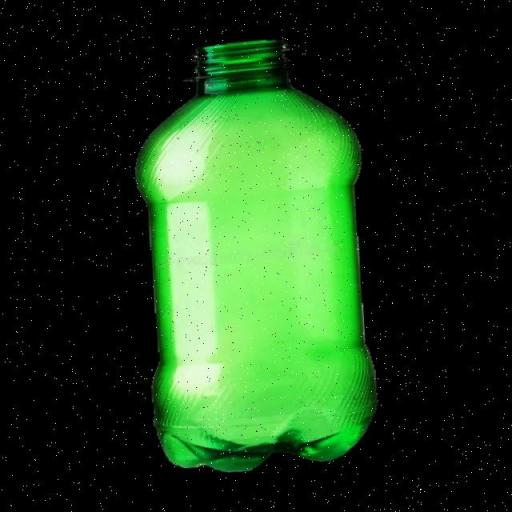plastic: (116, 29, 393, 482)
